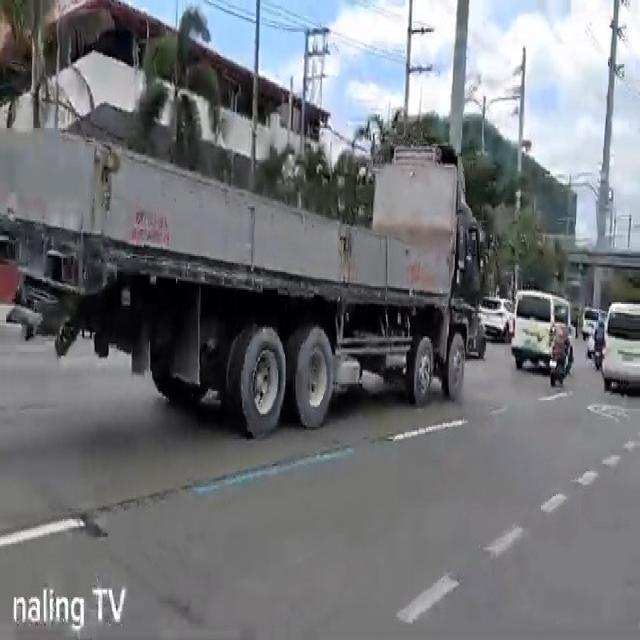car: (514, 288, 574, 376), (601, 304, 640, 402), (479, 294, 515, 344)
motorcycle: (546, 309, 574, 391)
truck: (0, 126, 485, 444)
